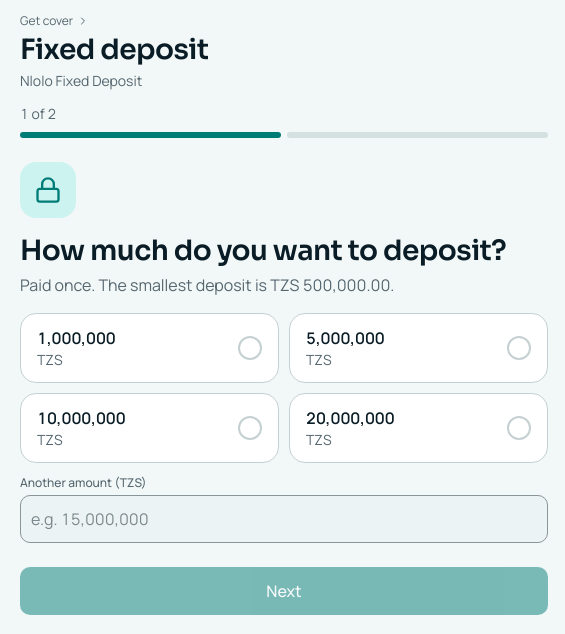
Get cover › prices a deposit from its own terms, never as cover
The width and height of the screenshot is (565, 634).
Expected: the heading "How much do you want to deposit?" is shown, [20,234,548,267]
Expected: the text "Paid once. The smallest deposit is TZS 500,000.00." is shown, [20,274,394,296]
Click the radio button labelled "1,000,000 TZS" at (150, 348), box [20,313,279,383]
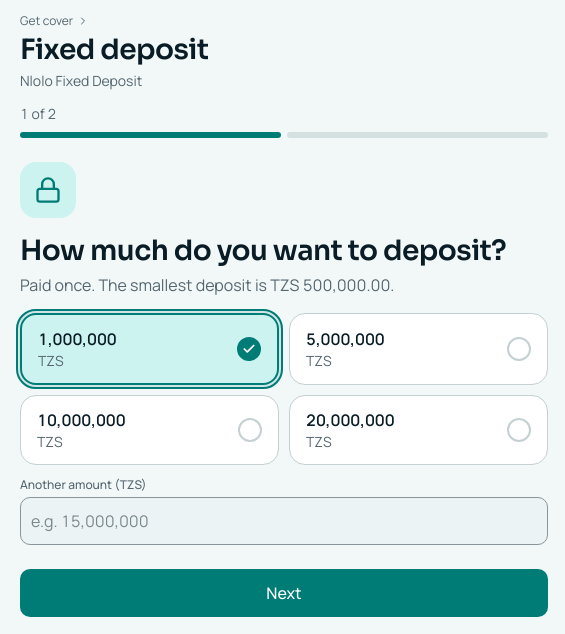
Click the button "Next" at (284, 593), box [20,569,548,617]
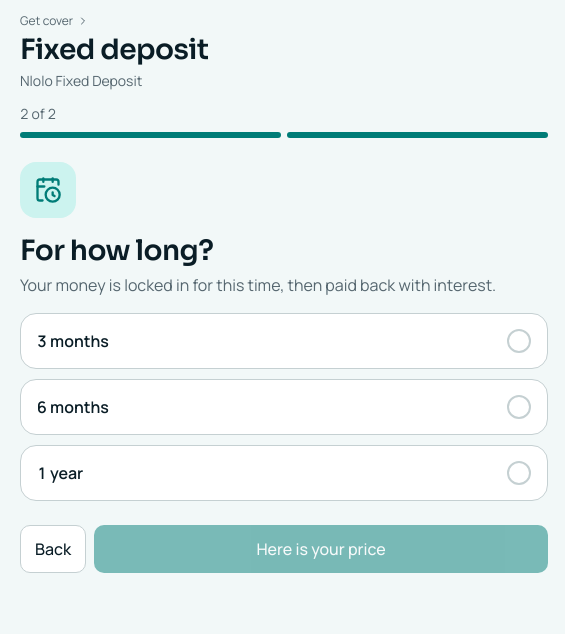
Result: the radio buttons read "3 months", "6 months", "1 year", in this order at [20,313,548,369]; [20,379,548,435]; [20,445,548,501]
